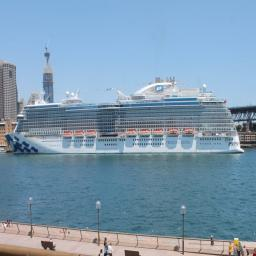cruises: (6, 68, 248, 162)
